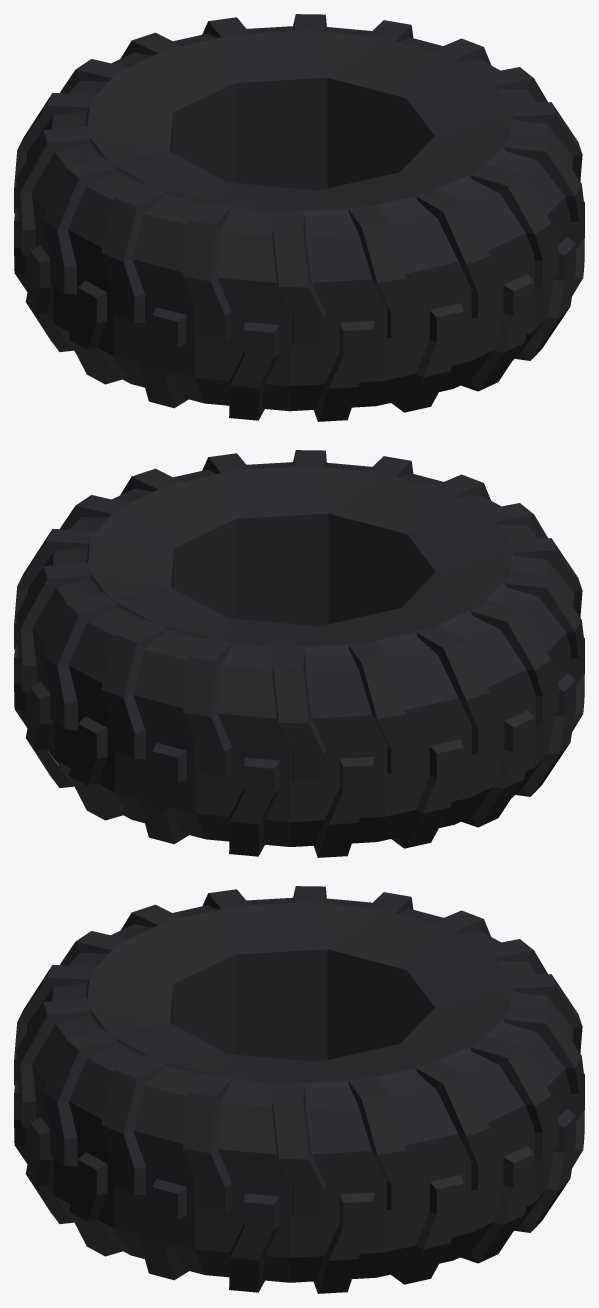
Rendered from SM_Env_PortEdge_Corner_Tyre_01.fbx.
The picture shows the model from 3 angles, top to bottom: view 1: azimuth 30°, elevation 25°; view 2: azimuth 150°, elevation 25°; view 3: azimuth 270°, elevation 25°; orthographic projection.
Visible parts, largest first — view 1: SM_Env_PortEdge_Corner_Tyre_01; view 2: SM_Env_PortEdge_Corner_Tyre_01; view 3: SM_Env_PortEdge_Corner_Tyre_01.
Part boxes in pixels (x1,y1,x2,y2): SM_Env_PortEdge_Corner_Tyre_01: [14, 14, 584, 421]; SM_Env_PortEdge_Corner_Tyre_01: [14, 450, 584, 857]; SM_Env_PortEdge_Corner_Tyre_01: [14, 886, 584, 1293].
Size of the model in its own units: 290 by 109 by 290.
